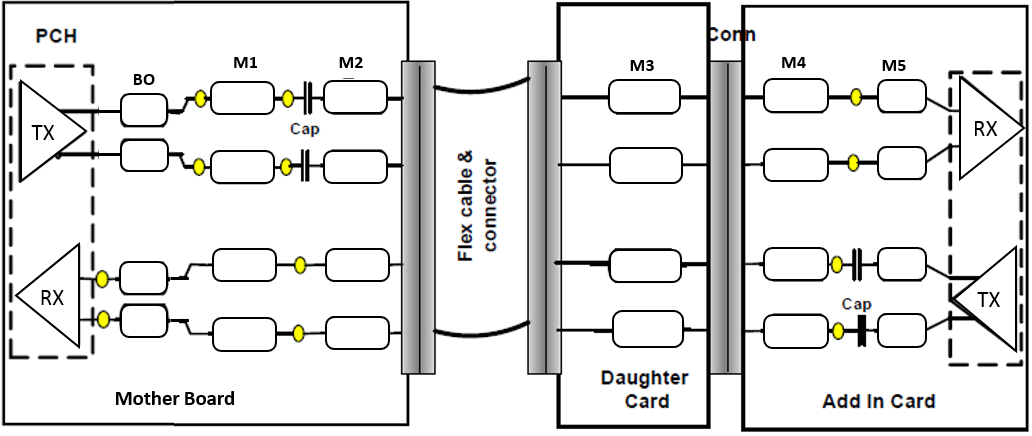capacitor: (300, 78, 317, 119), (853, 313, 871, 350), (296, 146, 312, 187), (849, 248, 868, 282)
circle: (847, 83, 866, 109), (95, 305, 112, 331), (91, 269, 111, 291), (292, 320, 309, 345), (278, 87, 296, 110), (293, 254, 310, 277), (830, 321, 847, 343), (832, 251, 846, 277), (846, 152, 861, 175), (279, 153, 293, 176), (192, 154, 206, 177), (191, 91, 207, 111)
dotted_rectangle: (96, 60, 188, 363), (945, 63, 1025, 374)
oval: (605, 146, 686, 187), (606, 75, 683, 118), (607, 245, 687, 285), (761, 306, 830, 352), (612, 308, 688, 349), (208, 74, 276, 118), (323, 313, 394, 355), (761, 146, 833, 187), (323, 74, 390, 118), (761, 74, 830, 115), (324, 244, 392, 285), (210, 315, 279, 355), (318, 147, 388, 186), (761, 244, 830, 283), (209, 147, 276, 185), (211, 246, 277, 284), (876, 141, 931, 186), (113, 132, 169, 175), (875, 74, 932, 115), (119, 87, 170, 132), (876, 310, 929, 352), (119, 256, 170, 299), (120, 301, 170, 340), (876, 245, 930, 280)
rectangle: (1, 1, 411, 428), (737, 1, 1032, 436), (550, 1, 712, 431), (522, 56, 568, 375), (705, 57, 750, 376), (397, 57, 441, 379)
triangle: (14, 69, 93, 201), (4, 236, 88, 354), (953, 77, 1026, 182), (956, 241, 1020, 359)
